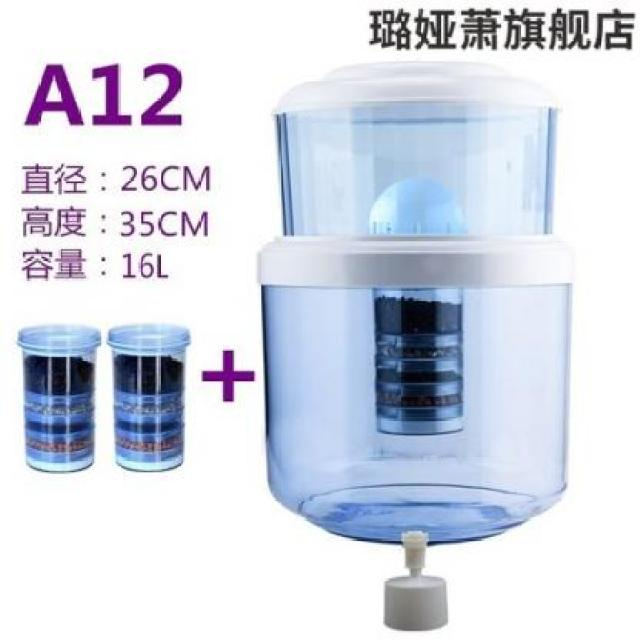coolerbottle: (255, 51, 580, 553)
